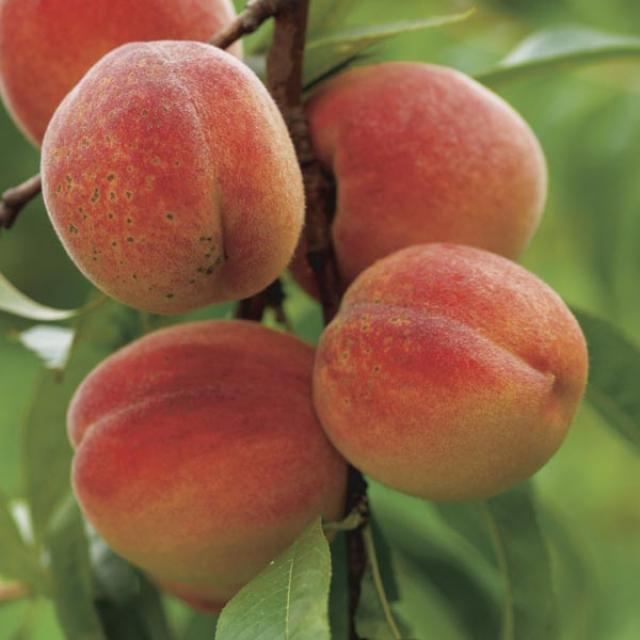peach: (45, 53, 591, 639)
